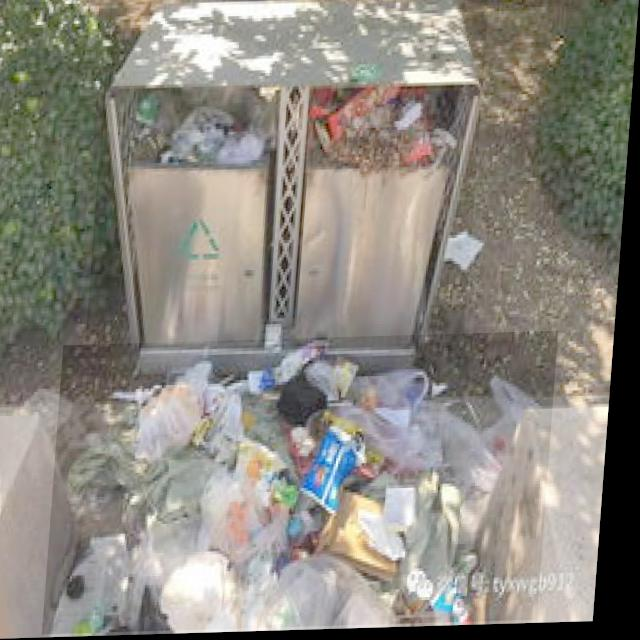garbage: (52, 334, 564, 635)
overflow: (89, 0, 490, 377)
